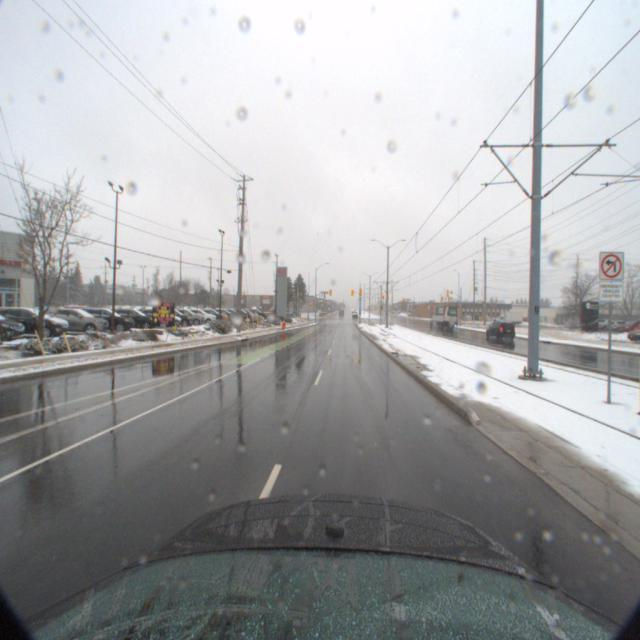Car: (30, 298, 110, 329), (68, 299, 134, 327), (100, 300, 156, 325), (486, 316, 524, 338), (177, 301, 215, 318)
Truck: (429, 296, 461, 323), (493, 306, 526, 320)
